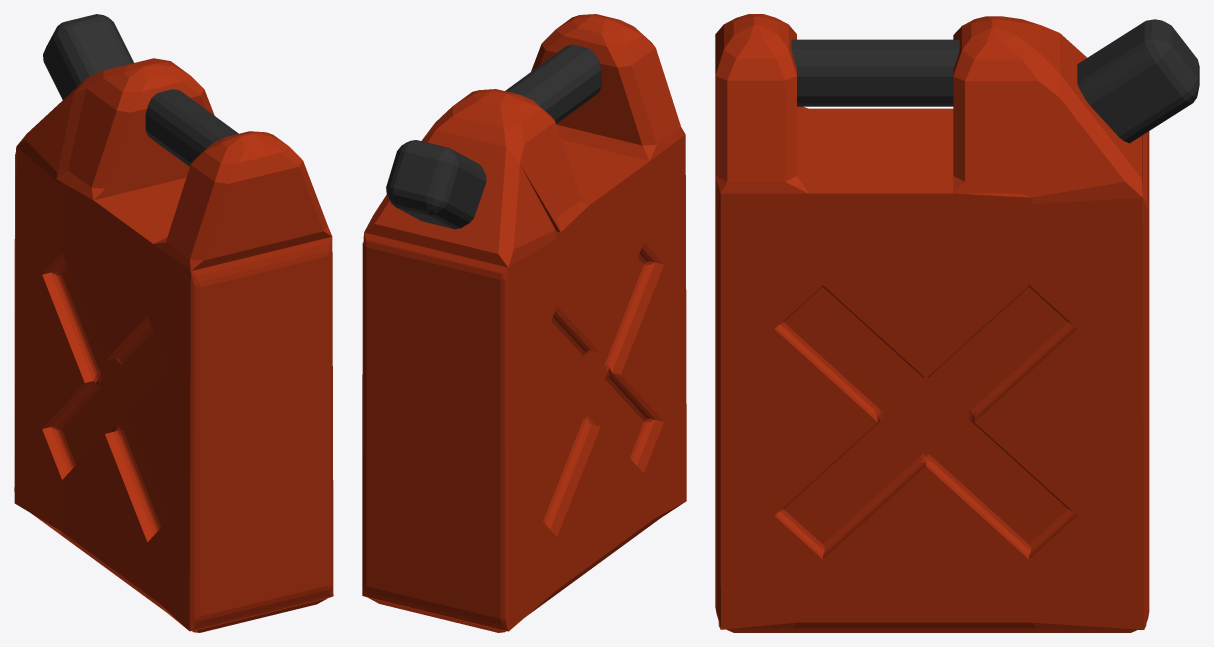
Rendered from fuel_can.fbx.
3 views of the same model, side by side, from view 1: azimuth 30°, elevation 25°; view 2: azimuth 150°, elevation 25°; view 3: azimuth 270°, elevation 25° (orthographic). The views are drawn at different scales.
Visible parts, largest first — view 1: Cube; view 2: Cube; view 3: Cube.
Part boxes in pixels (box(x1,y1,x2,y2)): Cube: box(14, 14, 333, 632); Cube: box(362, 14, 686, 632); Cube: box(715, 14, 1199, 632).
Size of the model in its own units: 84.56 by 258 by 196.
